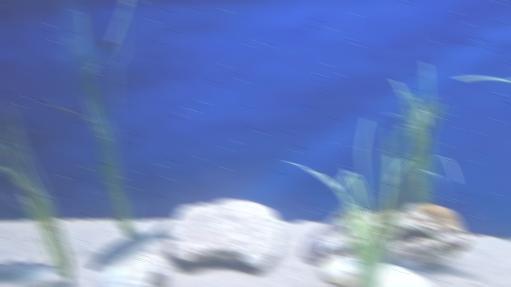Fish: (88, 220, 179, 270), (0, 259, 60, 283)
